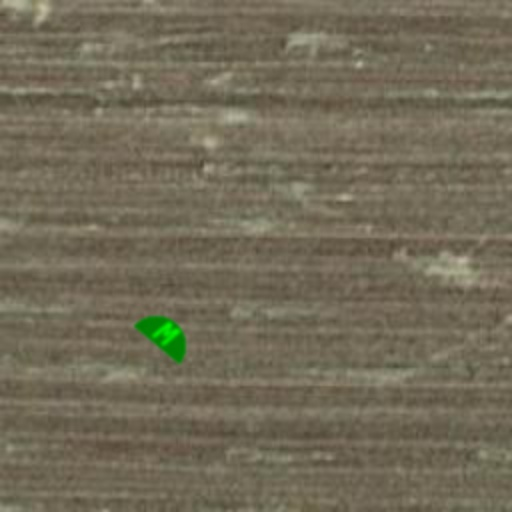semicircle: (122, 290, 210, 378)
